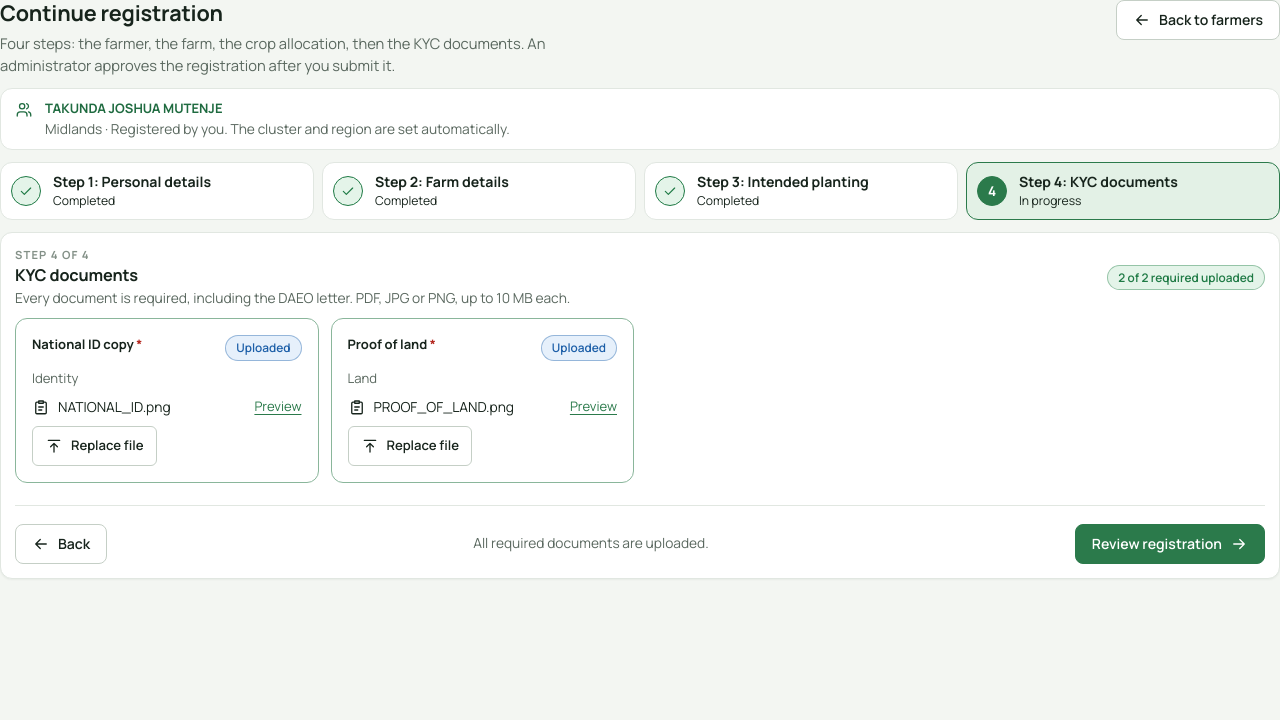
Test: RegisterFarmerPage submission › submits a complete registration even when farm details were edited after the last save
This screenshot has width=1280, height=720.
Click the button "Review registration".
click(1170, 544)  # box [1075, 524, 1265, 564]
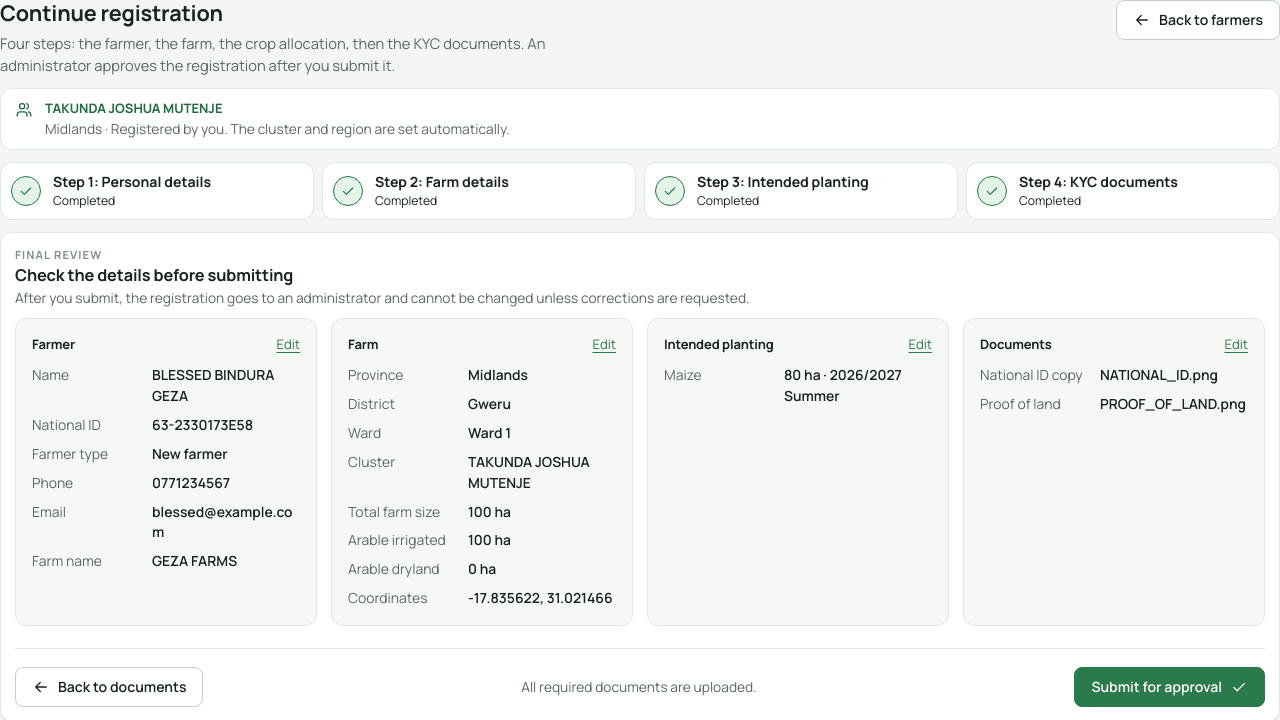
expect the button "Submit for approval" is enabled: met, box [1074, 667, 1265, 707]
Click the button "Step 2: Farm details Completed".
click(479, 191)  # box [322, 162, 636, 220]
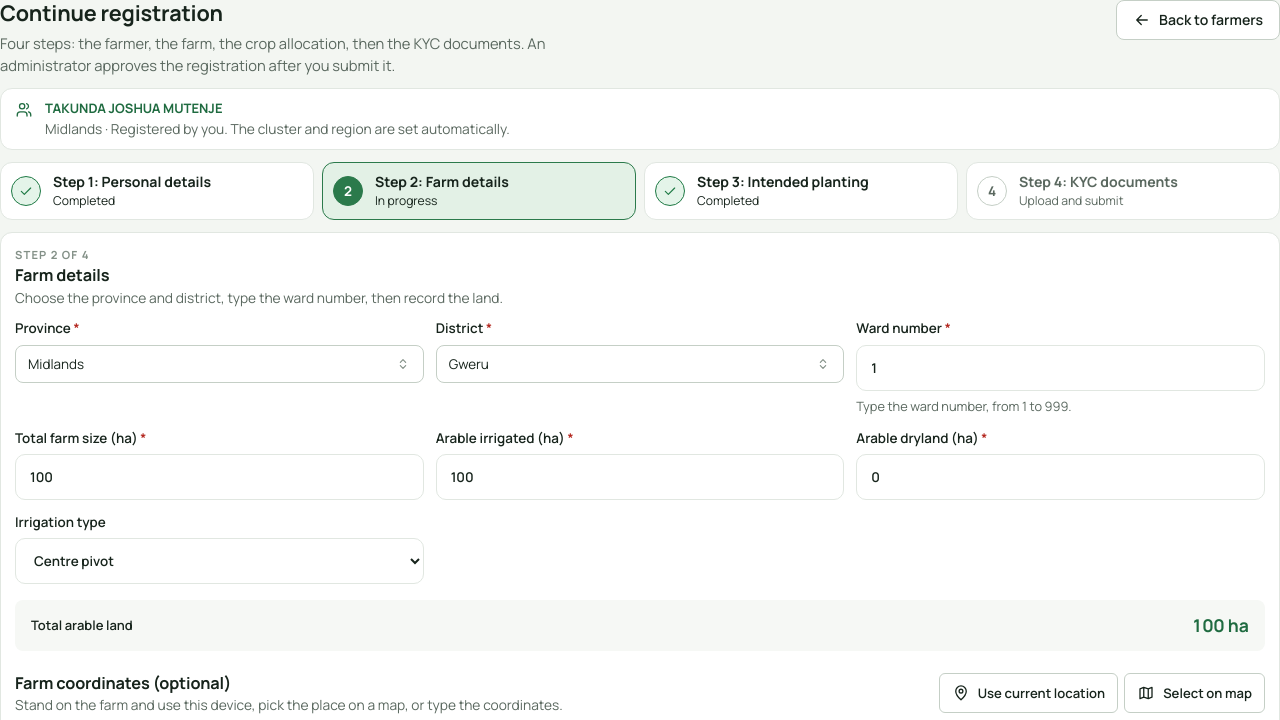
Replace the text in the number field labelled "Total farm size (ha) *" with "120" at (219, 477), box [15, 454, 424, 500]
Click the button "Step 3: Intended planting Completed".
click(801, 191)  # box [644, 162, 958, 220]
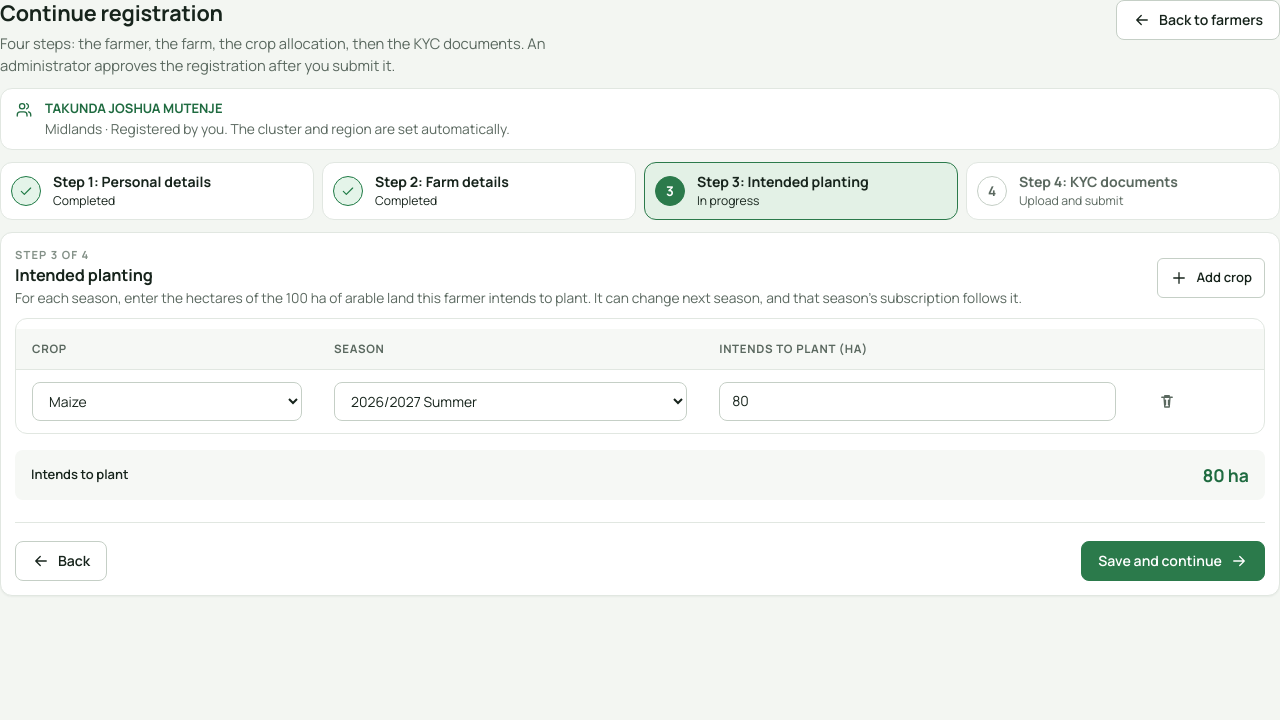
Click the button "Save and continue".
click(1173, 561)  # box [1081, 541, 1265, 581]
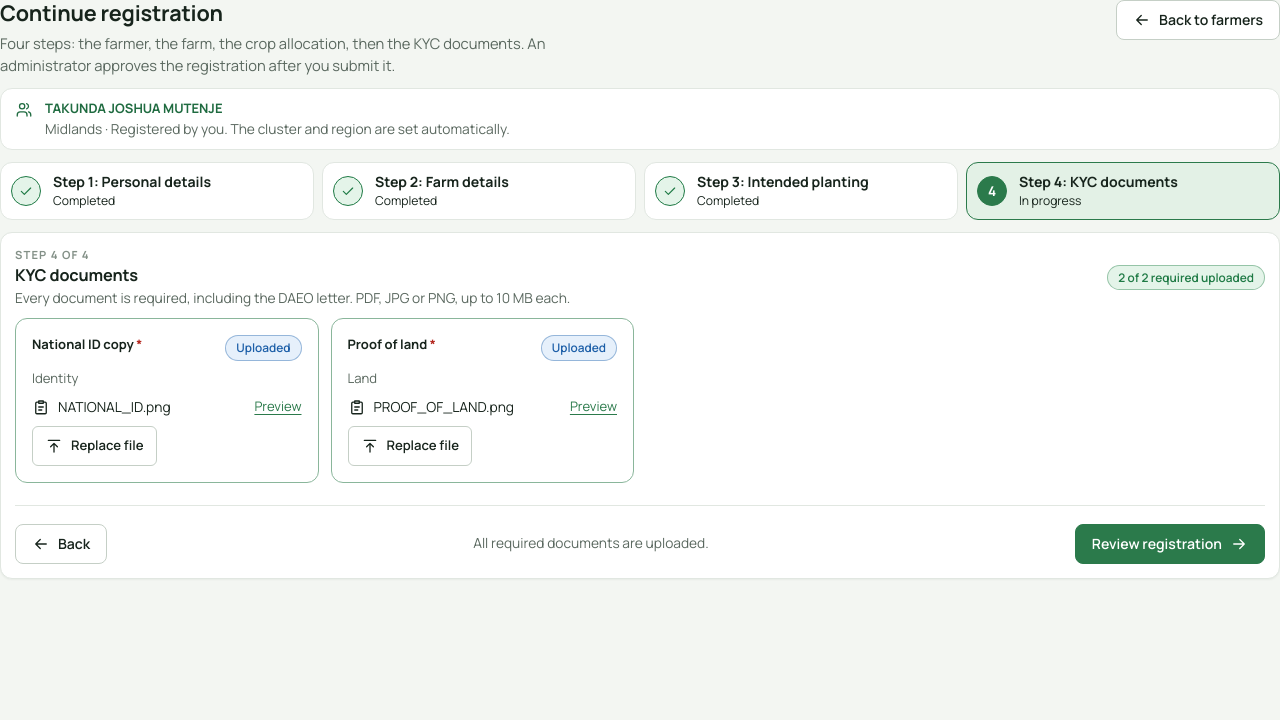
Click the button "Review registration".
click(1170, 544)  # box [1075, 524, 1265, 564]
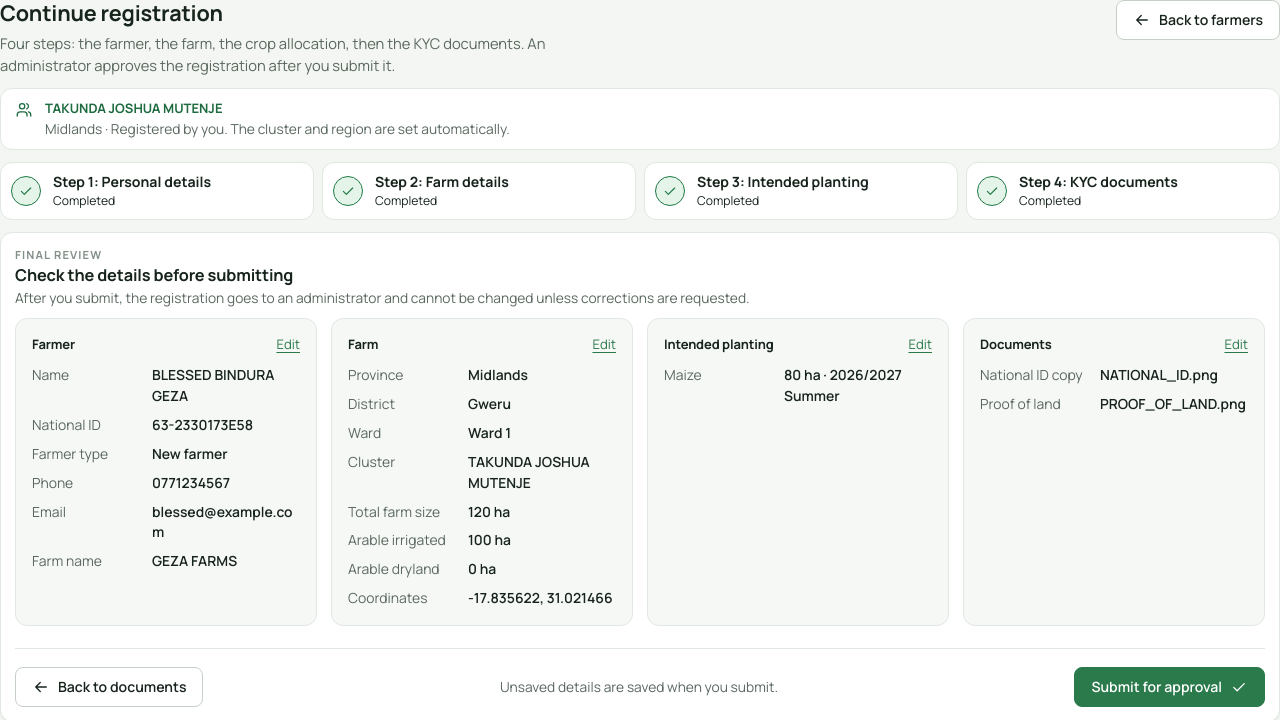
Click the button "Submit for approval".
click(1170, 687)  # box [1074, 667, 1265, 707]
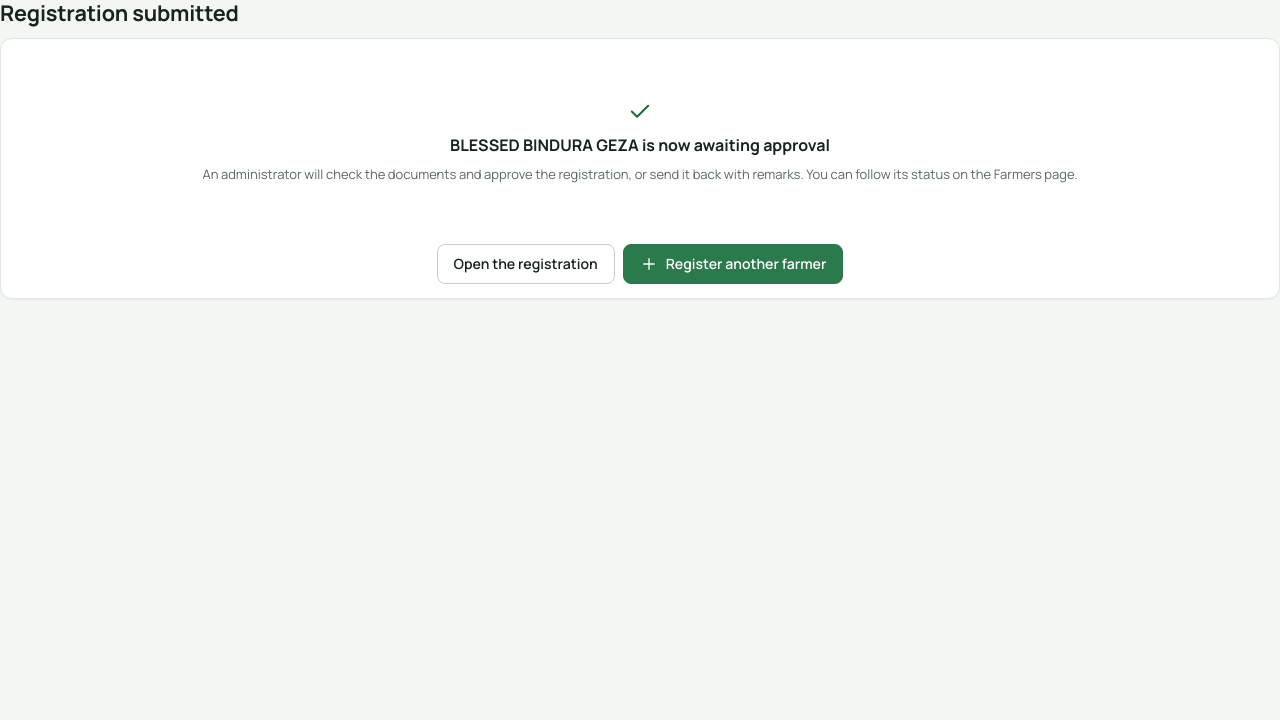
expect the text "BLESSED BINDURA GEZA is now awaiting approval" is shown: met, box [450, 133, 830, 157]
